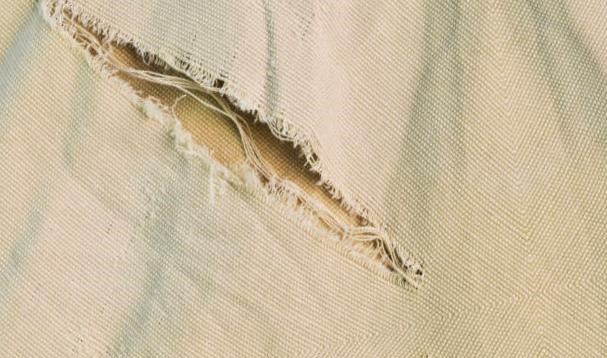hole: (29, 0, 437, 294)
